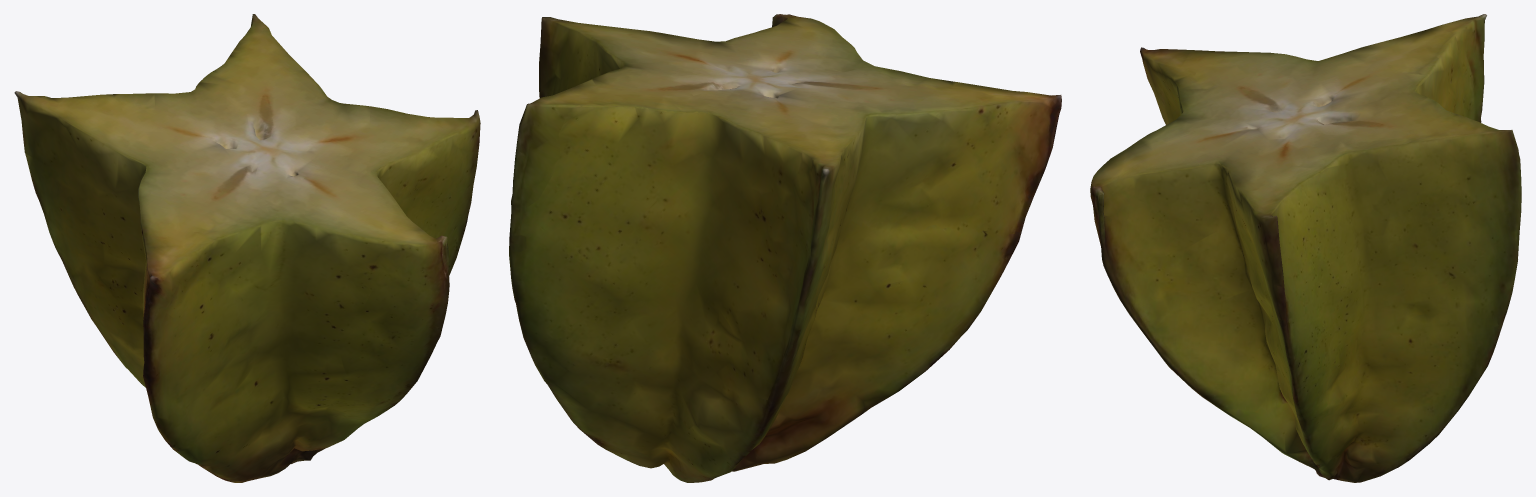
File: carambola-half.glb
3 renders of one model, left to right at view 1: azimuth 30°, elevation 25°; view 2: azimuth 150°, elevation 25°; view 3: azimuth 270°, elevation 25°, orthographic. The views are drawn at different scales.
Visible parts, largest first — view 1: Object_3; view 2: Object_3; view 3: Object_3.
Boxes of the visible parts, bbox=[...] form: Object_3: bbox=[14, 14, 480, 482]; Object_3: bbox=[509, 14, 1061, 482]; Object_3: bbox=[1090, 14, 1521, 482].
Size of the model in its own units: 3.46 by 3.12 by 3.28.
1 material, 1 textured.
